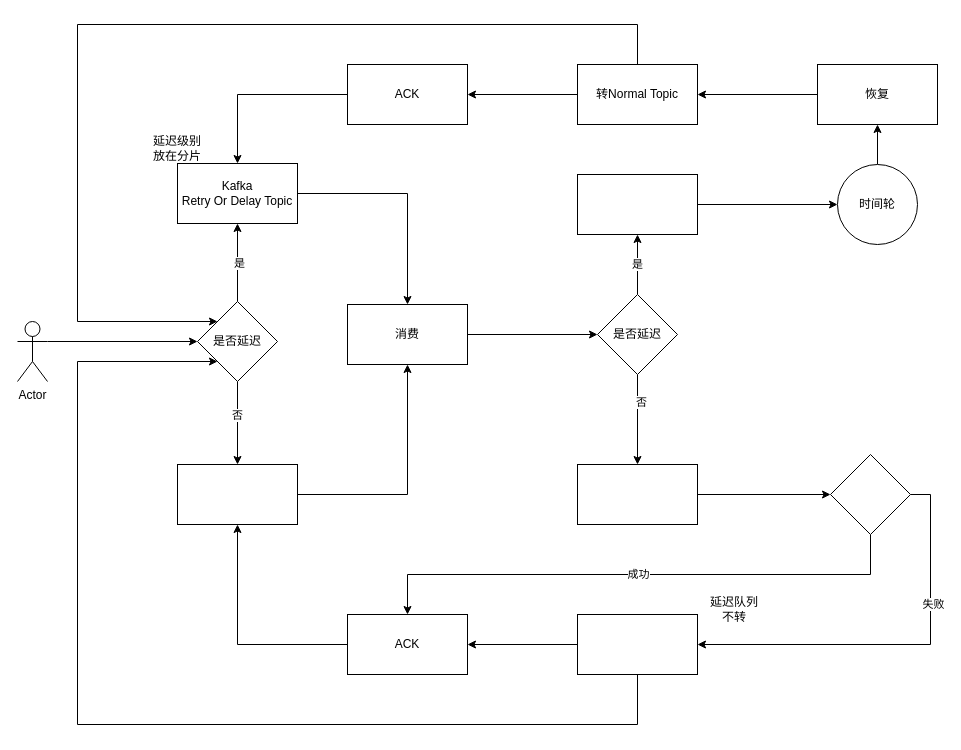
Some shapes in this 961 by 750 pixel diagram are drawn without their labels. The centre of each missing label's shape, as x and y in pixels:
kafka Normal Topic: the point at 237,494
成功or失败: the point at 870,494
执行任务: the point at 637,494
暂停: the point at 637,204
转 Retry Topic: the point at 637,644
